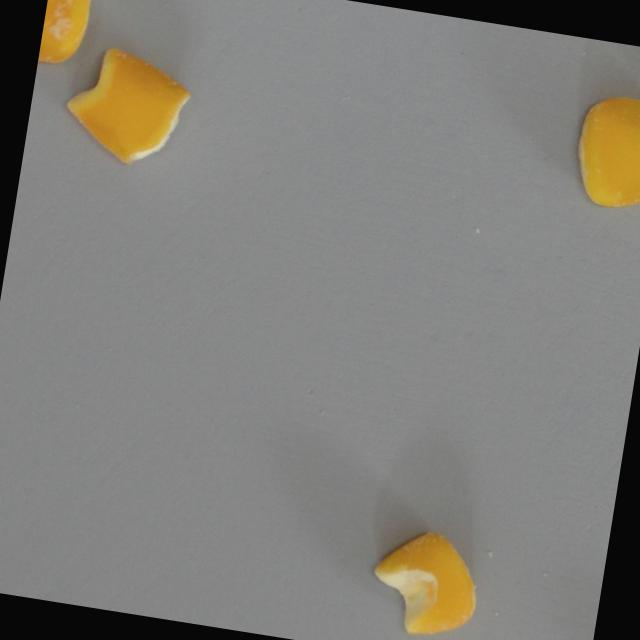no_canjicado: (57, 40, 203, 177)
pelicula: (361, 519, 490, 640), (559, 81, 640, 217), (36, 0, 92, 72)
